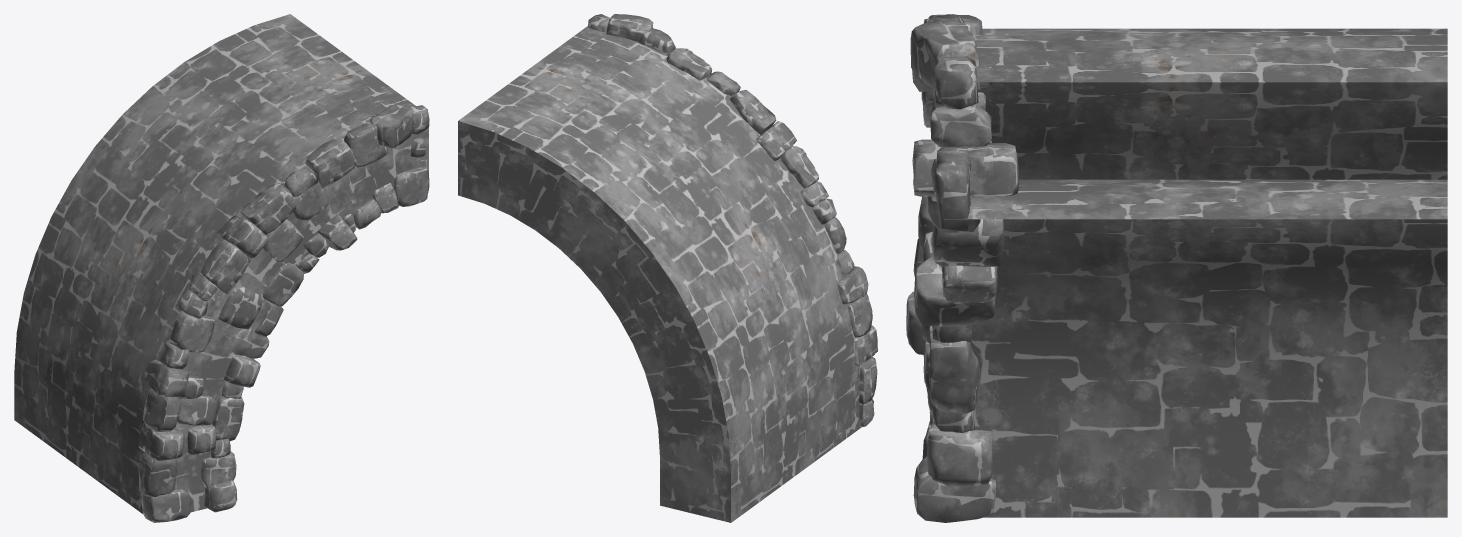
Rendered from Half_roof_SidePiece_Left.fbx.
The picture shows the model from 3 angles, left to right: view 1: azimuth 30°, elevation 25°; view 2: azimuth 150°, elevation 25°; view 3: azimuth 270°, elevation 25°; orthographic projection. The views are drawn at different scales.
Visible parts, largest first — view 1: Half_Roof_02, Rocks_06; view 2: Half_Roof_02, Rocks_06; view 3: Half_Roof_02, Rocks_06.
Boxes of the visible parts, x1,y1,x2,y2 form: Half_Roof_02: (14,14,428,513); Rocks_06: (138,105,429,522); Half_Roof_02: (458,26,861,522); Rocks_06: (587,14,877,427); Half_Roof_02: (944,28,1447,517); Rocks_06: (906,14,1018,522).
Size of the model in its own units: 5.91 by 6.99 by 5.37.
